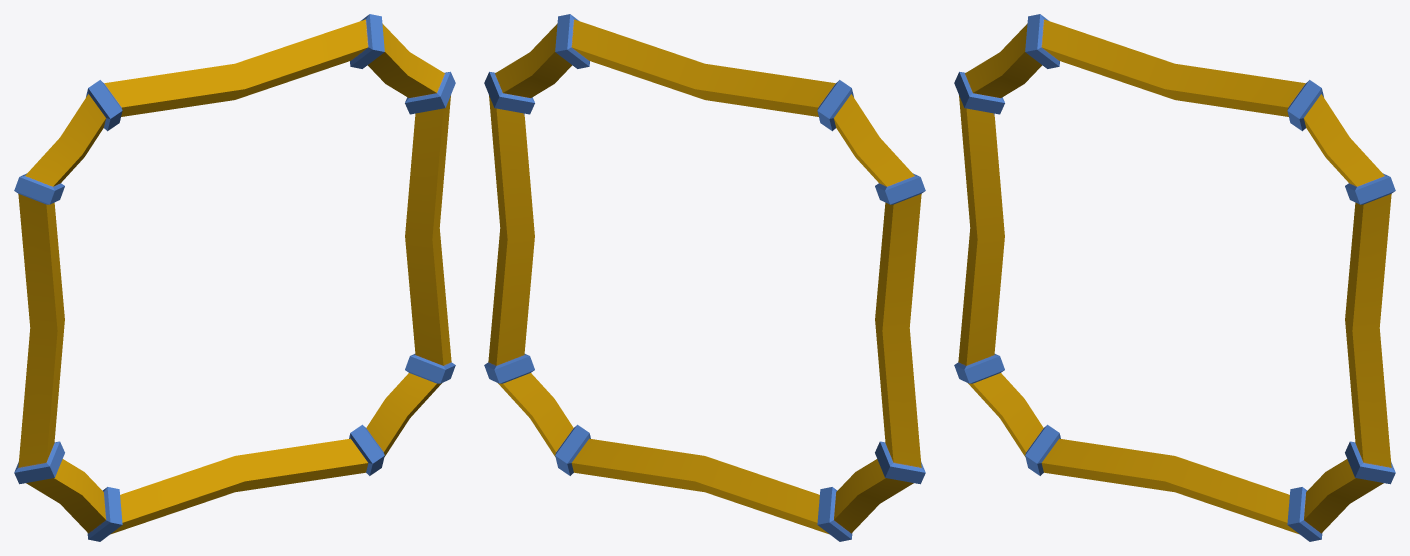
The model's file is ring S.fbx.
3 renders of one model, left to right at view 1: azimuth 30°, elevation 25°; view 2: azimuth 150°, elevation 25°; view 3: azimuth 330°, elevation 25°, orthographic.
Parts seen in each view (by area): view 1: ring S; view 2: ring S; view 3: ring S.
Part boxes in pixels (x1,y1,x2,y2): ring S: (14,14,455,541); ring S: (484,14,925,541); ring S: (954,14,1395,541).
Size of the model in its own units: 289 by 289 by 28.77.
Materials: 1 (1 with a texture image).
